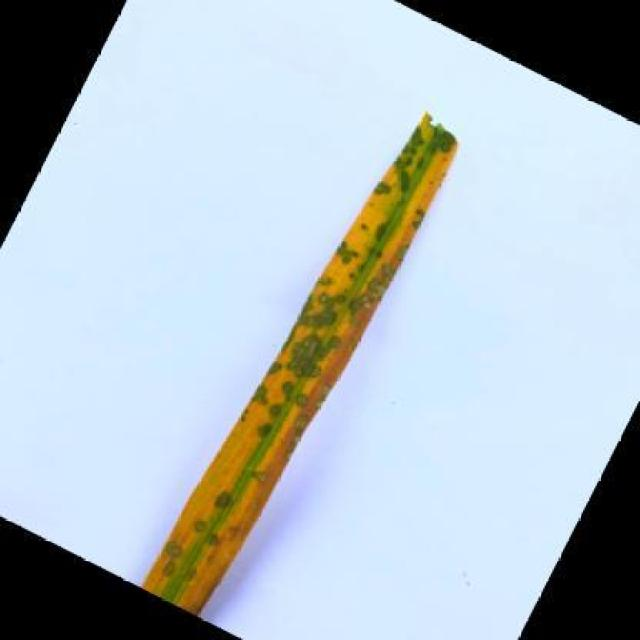Rice False Smut: (136, 74, 482, 629)
